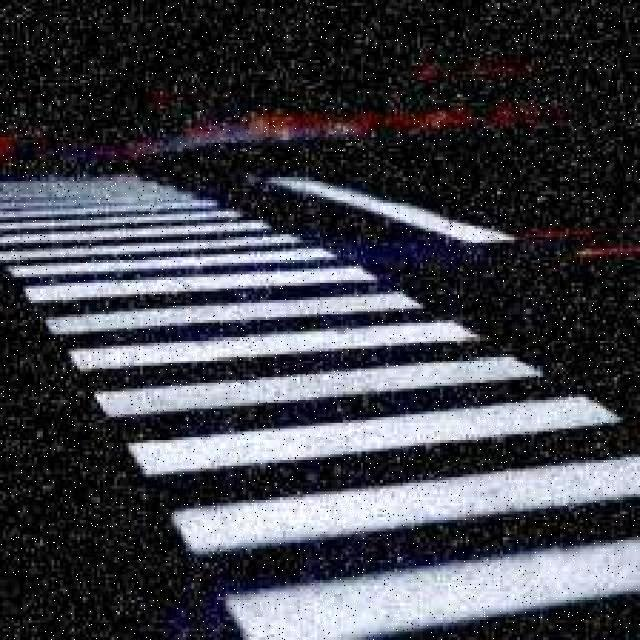crosswalk: (0, 159, 636, 639)
